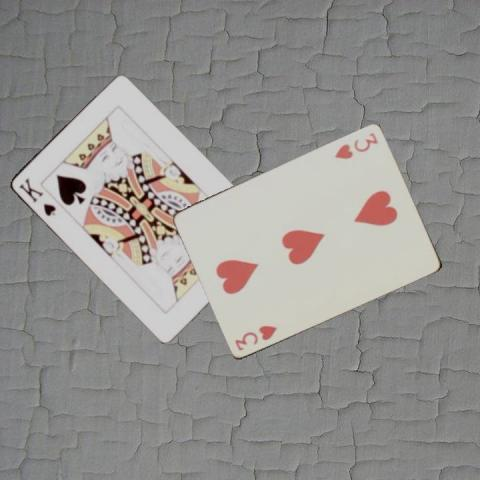3h: (332, 129, 379, 161), (232, 322, 279, 352)
Ks: (16, 176, 57, 218)
